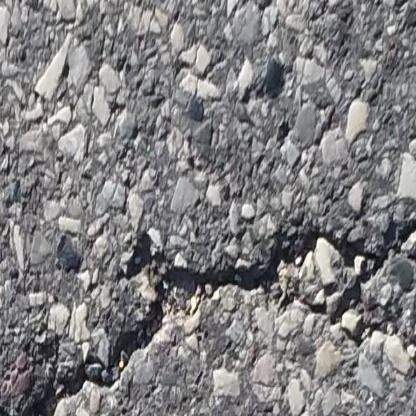Cracks: (0, 176, 416, 416)
